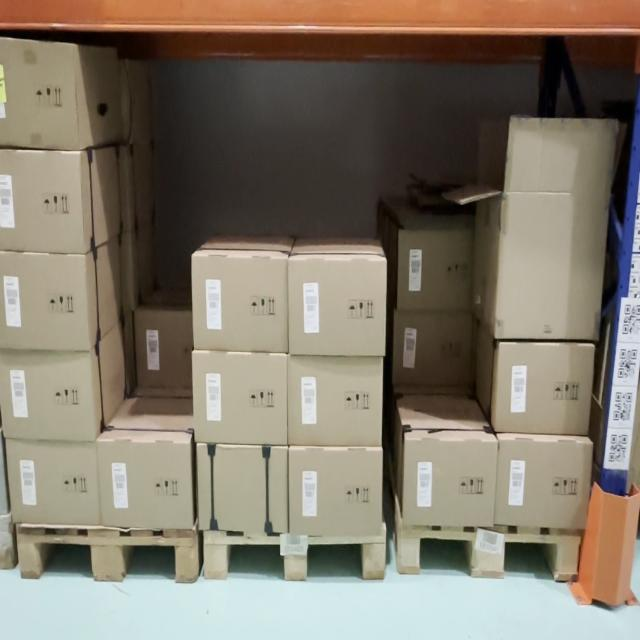box: (498, 190, 609, 341), (192, 255, 289, 355), (495, 437, 591, 535), (292, 253, 386, 353), (2, 434, 95, 528), (495, 348, 592, 435), (288, 359, 380, 448), (194, 354, 286, 442), (292, 450, 380, 540), (197, 446, 286, 531), (408, 441, 495, 524), (100, 442, 191, 520), (400, 231, 475, 312), (396, 310, 471, 389)
